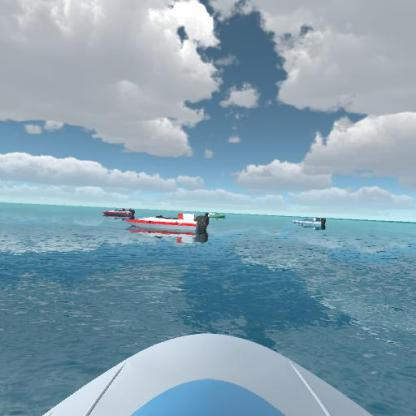usv0: (204, 209, 230, 222)
usv1: (290, 212, 329, 233)
usv3: (123, 209, 211, 244), (102, 205, 138, 221)
